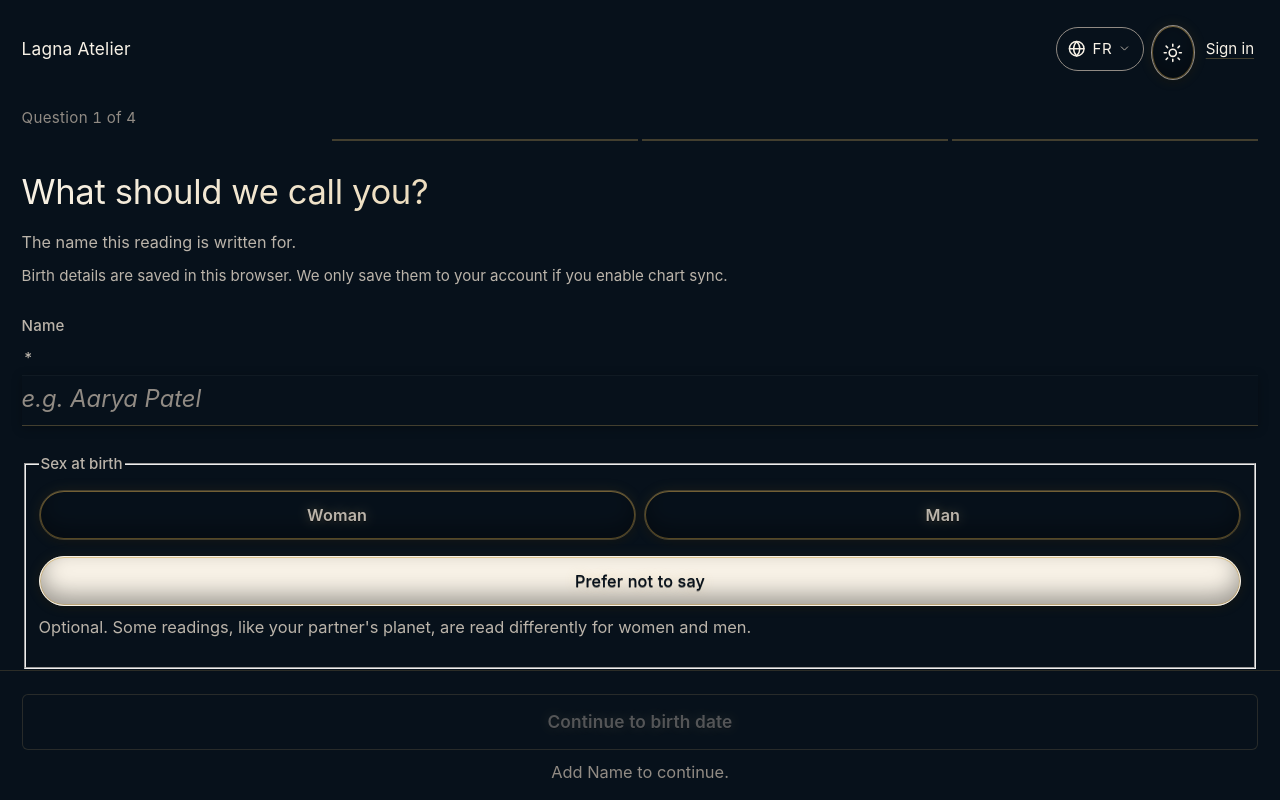
MobileIntake's birth date, typed in French › is read on submit when the field never lost focus
This screenshot has width=1280, height=800.
Step 1. Type "Ada" into the field labelled "Name *" → (640, 400), box [22,375,1258,426]
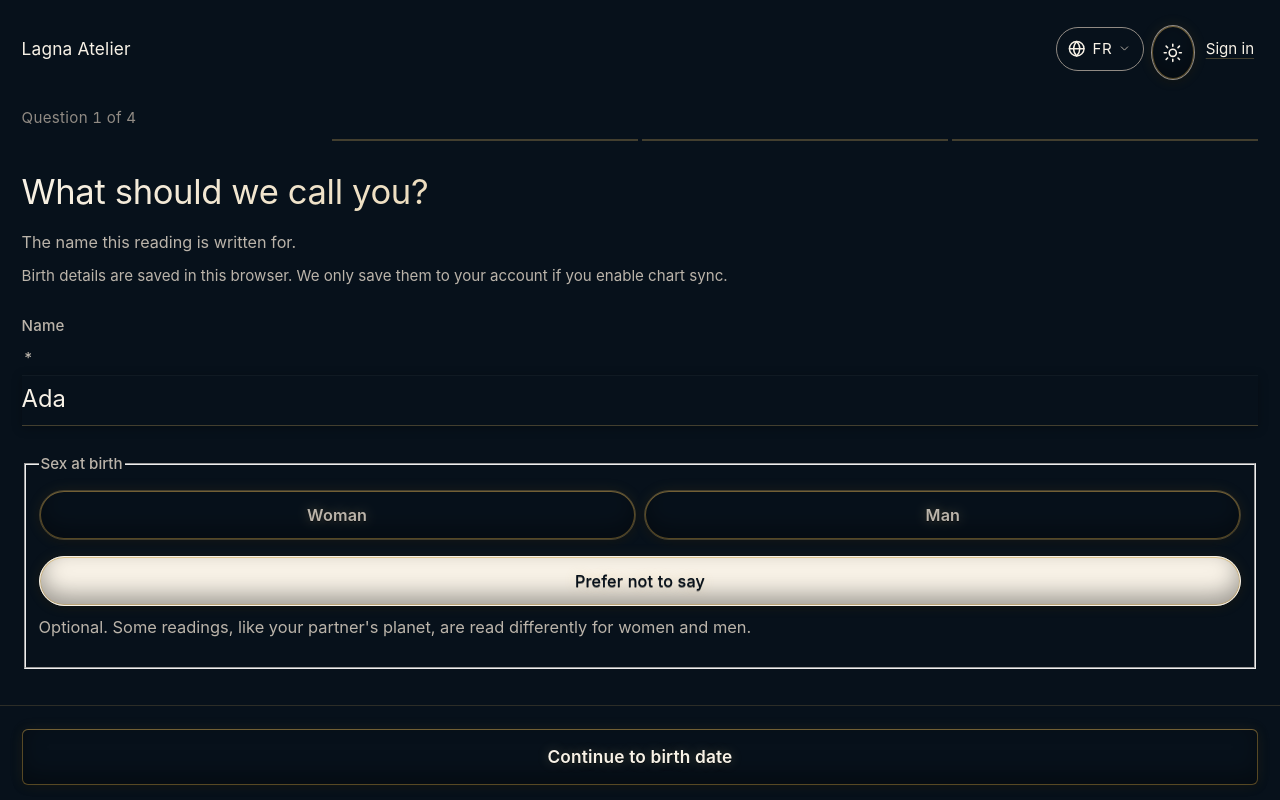
Step 2. Submit the form
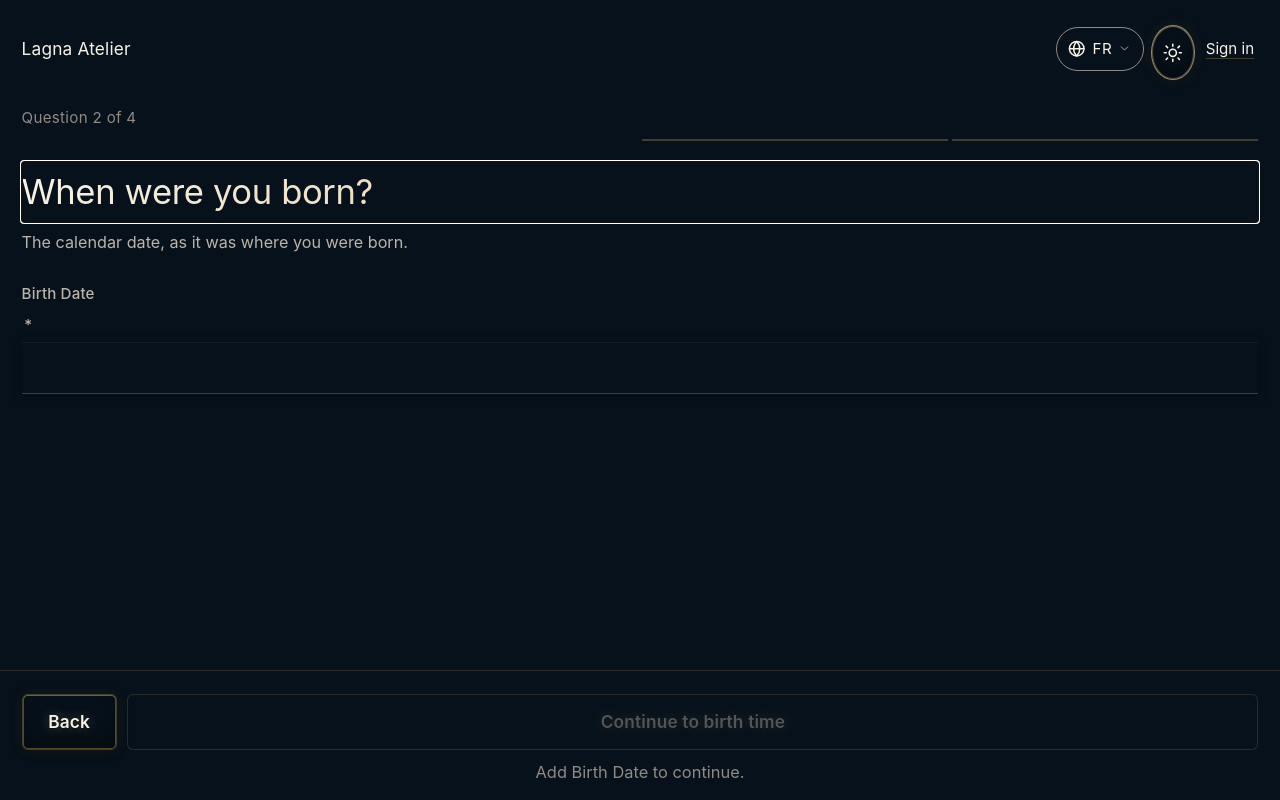
Step 3. Type "15 juin 1990" into the field labelled "Birth Date *" → (640, 368), box [22,342,1258,394]
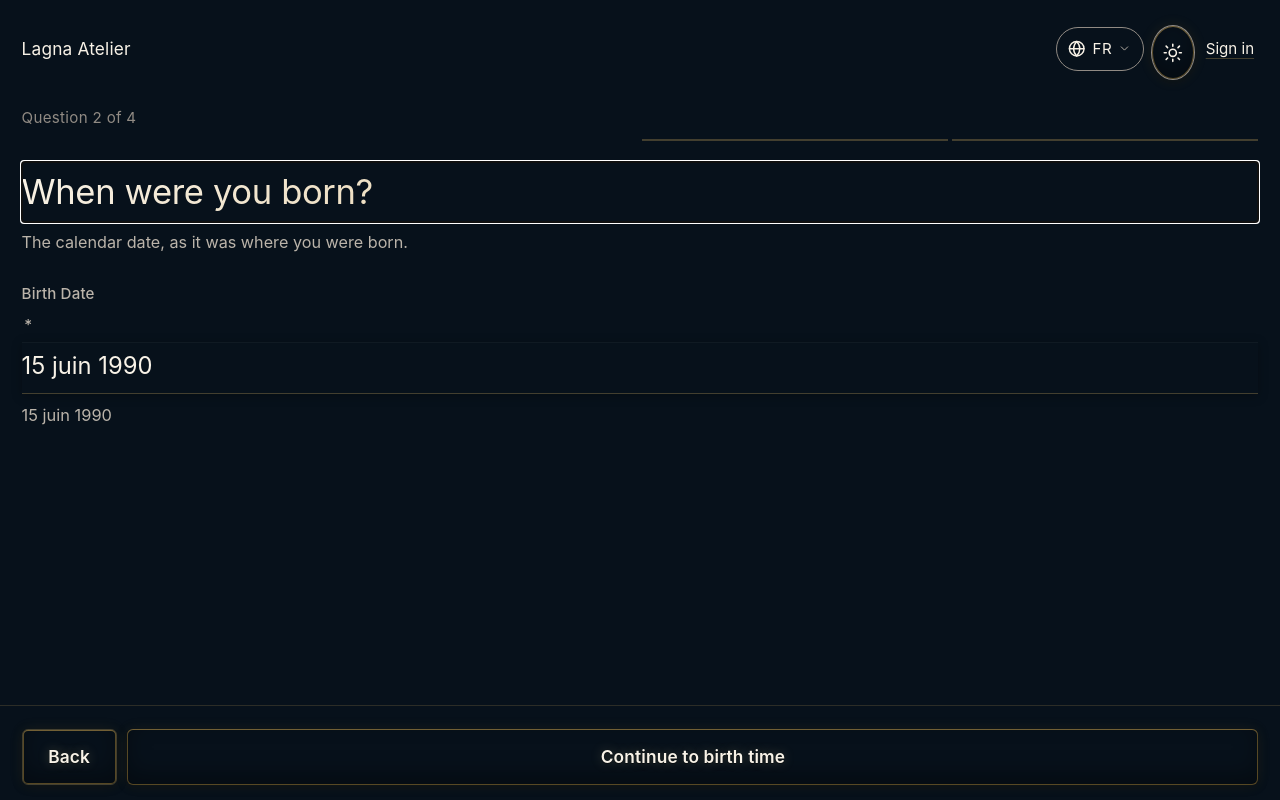
Step 4. Submit the form
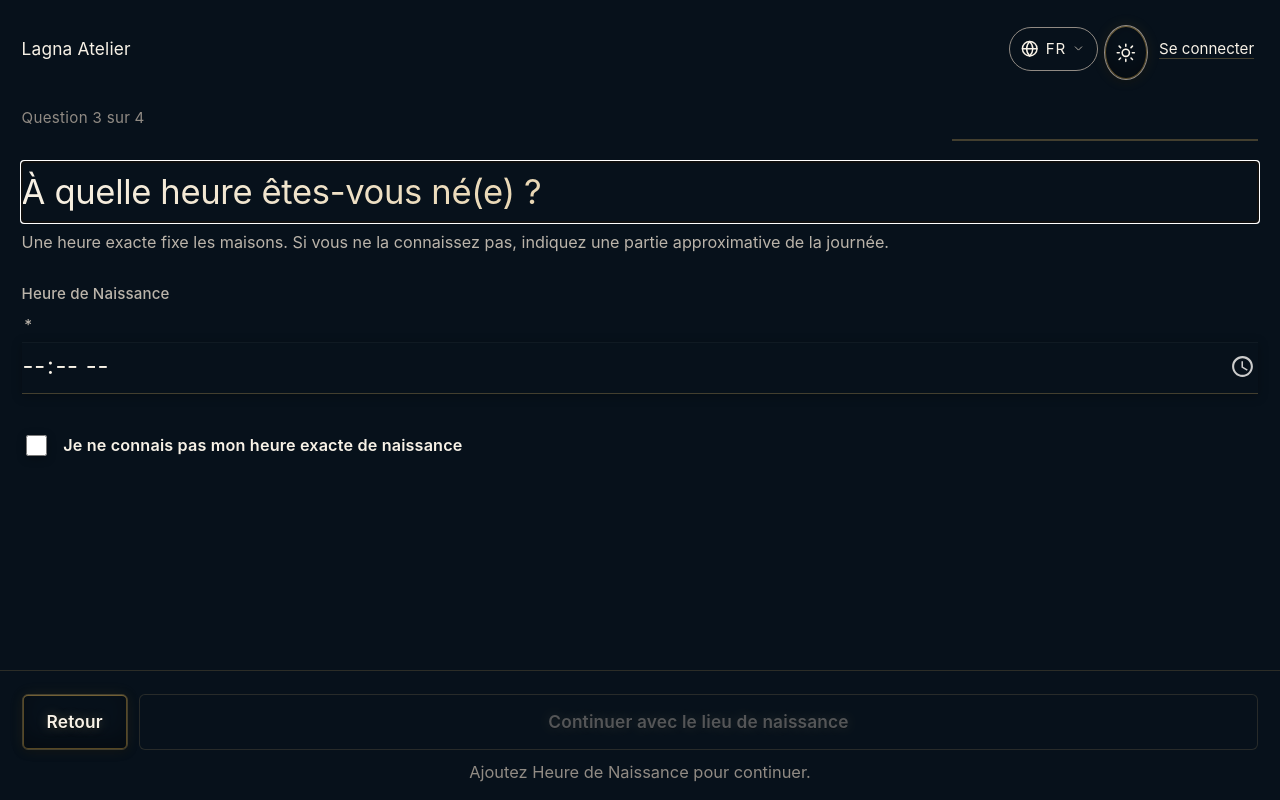
Now the time field labelled "Heure de Naissance *" is shown, box [22,342,1258,394]
